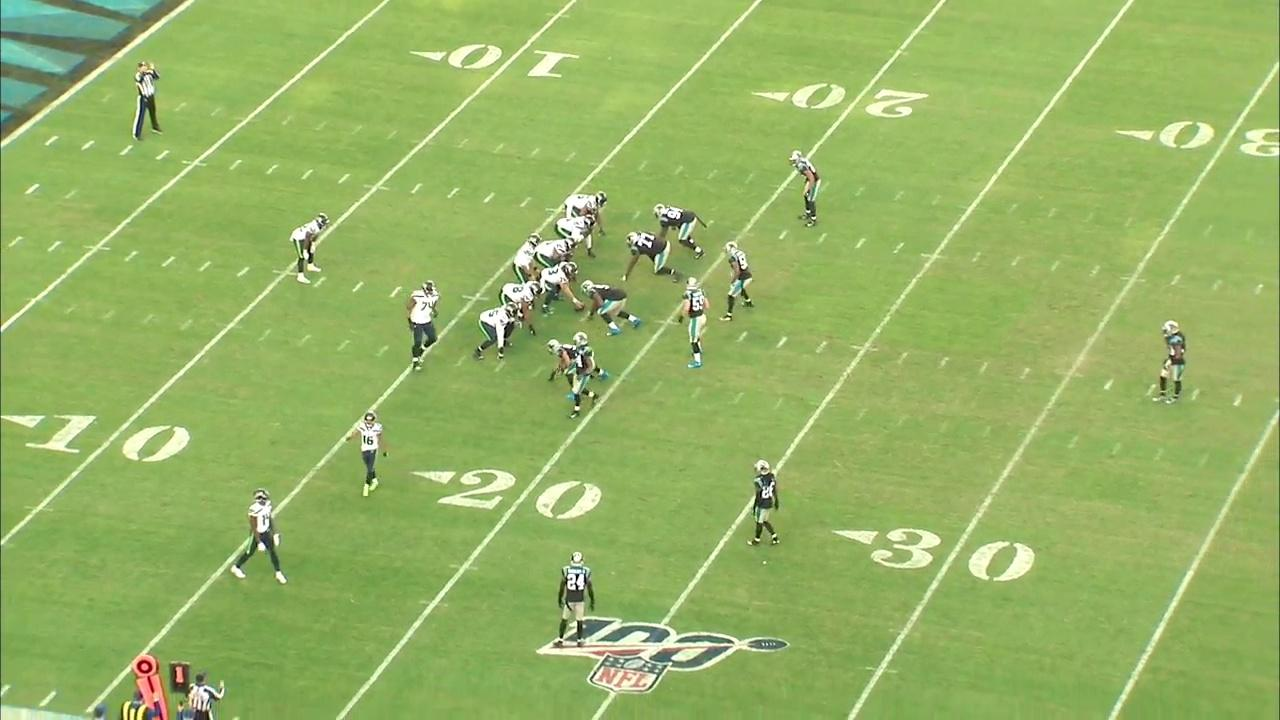player: (229, 478, 283, 587), (552, 548, 596, 650), (548, 337, 609, 397), (651, 201, 709, 261), (747, 454, 782, 551), (406, 275, 440, 374), (354, 410, 389, 501), (681, 274, 712, 376), (583, 280, 639, 336), (624, 226, 679, 282), (1157, 314, 1188, 408), (292, 212, 331, 286), (473, 302, 519, 362), (568, 334, 600, 420), (789, 147, 823, 227), (500, 280, 541, 339), (541, 263, 586, 315), (724, 243, 753, 323), (562, 190, 609, 239), (552, 213, 598, 258), (508, 231, 541, 289), (534, 239, 576, 268)
ref: (130, 60, 160, 144), (182, 667, 226, 718)
